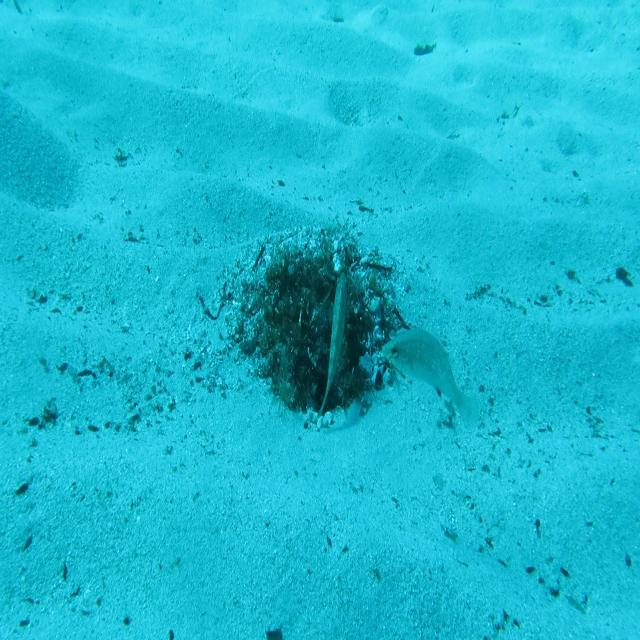FAN: (314, 269, 352, 425)
core_nest: (290, 267, 337, 300)
female: (381, 324, 481, 434)
nest: (216, 206, 414, 437)
vegetation: (616, 263, 634, 294), (412, 41, 438, 62), (266, 625, 282, 640)
